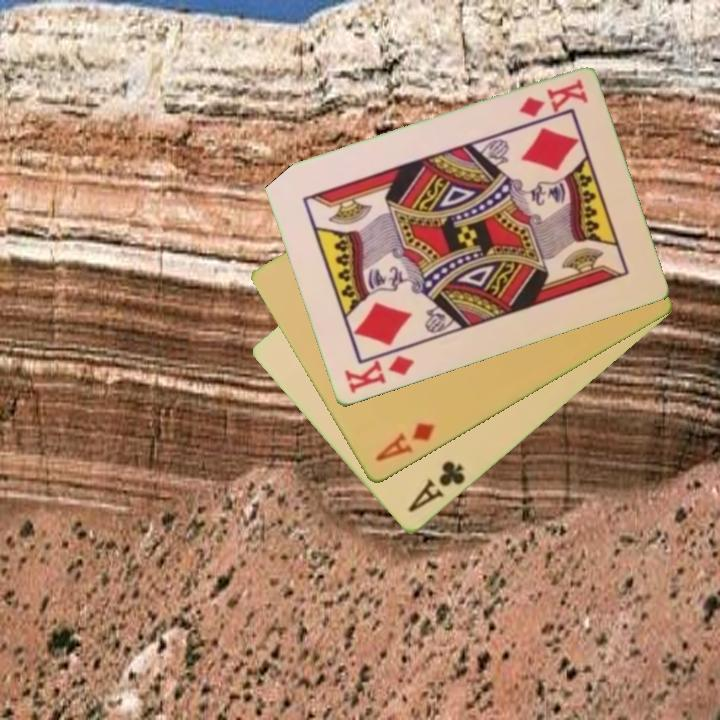Ac: (405, 457, 468, 517)
Ad: (371, 419, 438, 465)
Kd: (340, 344, 417, 397), (515, 76, 591, 121)
